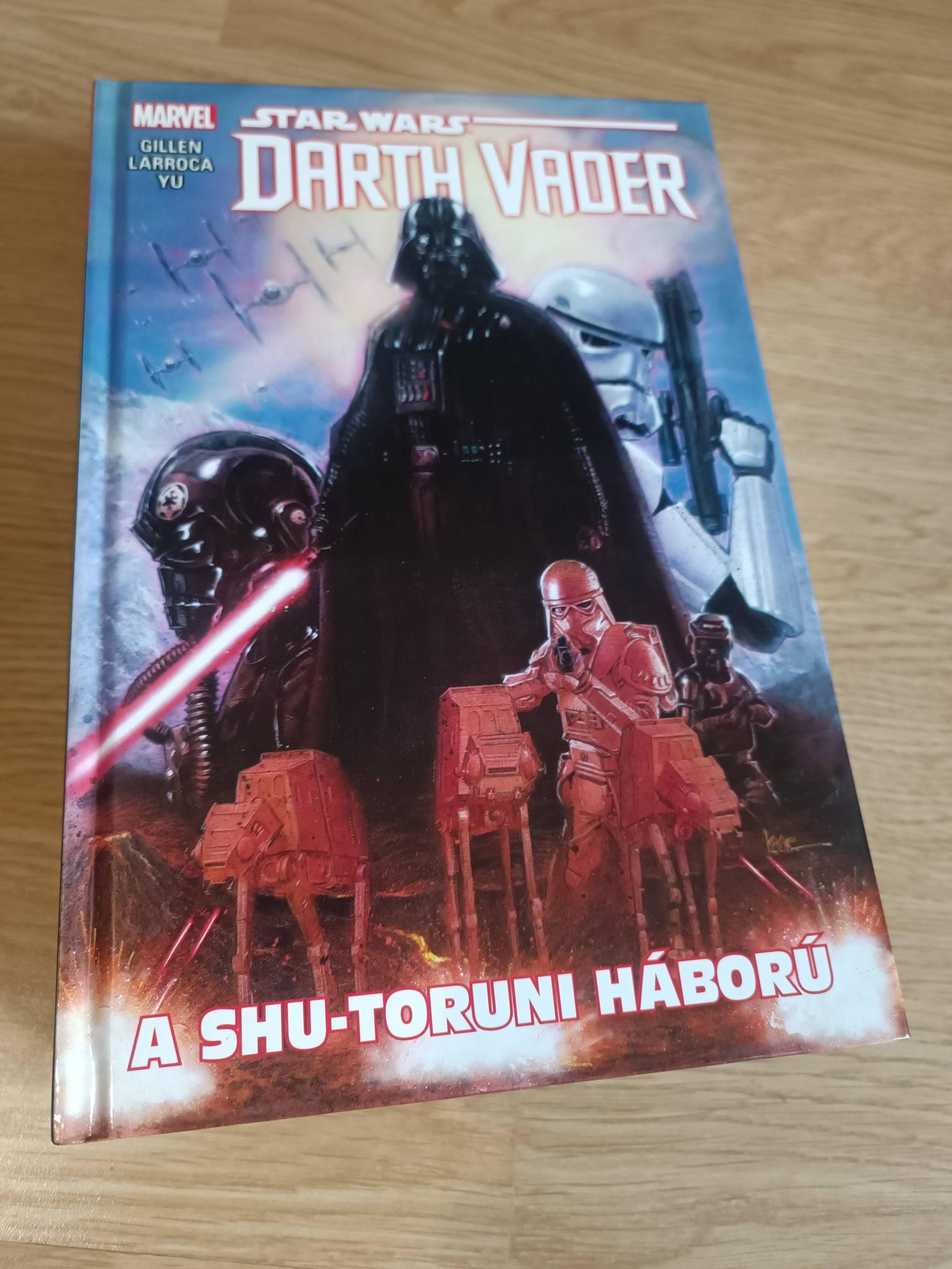comic: (54, 80, 935, 1168)
